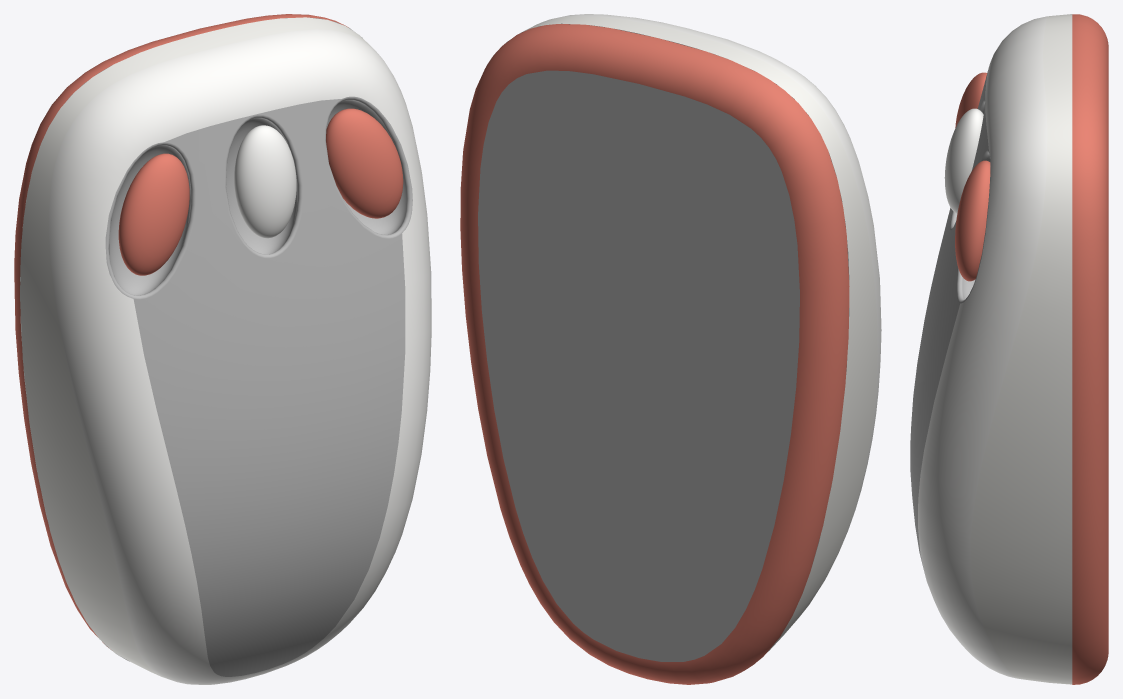
File: mouse.glb
3 views of the same model, side by side, from view 1: azimuth 30°, elevation 25°; view 2: azimuth 150°, elevation 25°; view 3: azimuth 270°, elevation 25° (orthographic). The views are drawn at different scales.
Visible parts, largest first — view 1: cuerpo arriba, boton izquierdo, Boton derecho, boton mitad, cuerpo base mouse; view 2: cuerpo base mouse, cuerpo arriba; view 3: cuerpo arriba, cuerpo base mouse, Boton derecho, boton mitad, boton izquierdo.
Part boxes in pixels (box(x1,y1,x2,y2)): cuerpo arriba: box(20, 17, 431, 684); boton izquierdo: box(118, 153, 189, 275); Boton derecho: box(326, 108, 403, 218); boton mitad: box(234, 125, 296, 238); cuerpo base mouse: box(14, 14, 362, 661); cuerpo base mouse: box(460, 24, 849, 684); cuerpo arriba: box(506, 14, 881, 652); cuerpo arriba: box(910, 14, 1072, 684); cuerpo base mouse: box(1072, 14, 1108, 684); Boton derecho: box(955, 160, 990, 281); boton mitad: box(944, 108, 983, 213); boton izquierdo: box(955, 72, 987, 127).
Bounding box in the file's own units: 0.0626 × 0.0996 × 0.0292.
